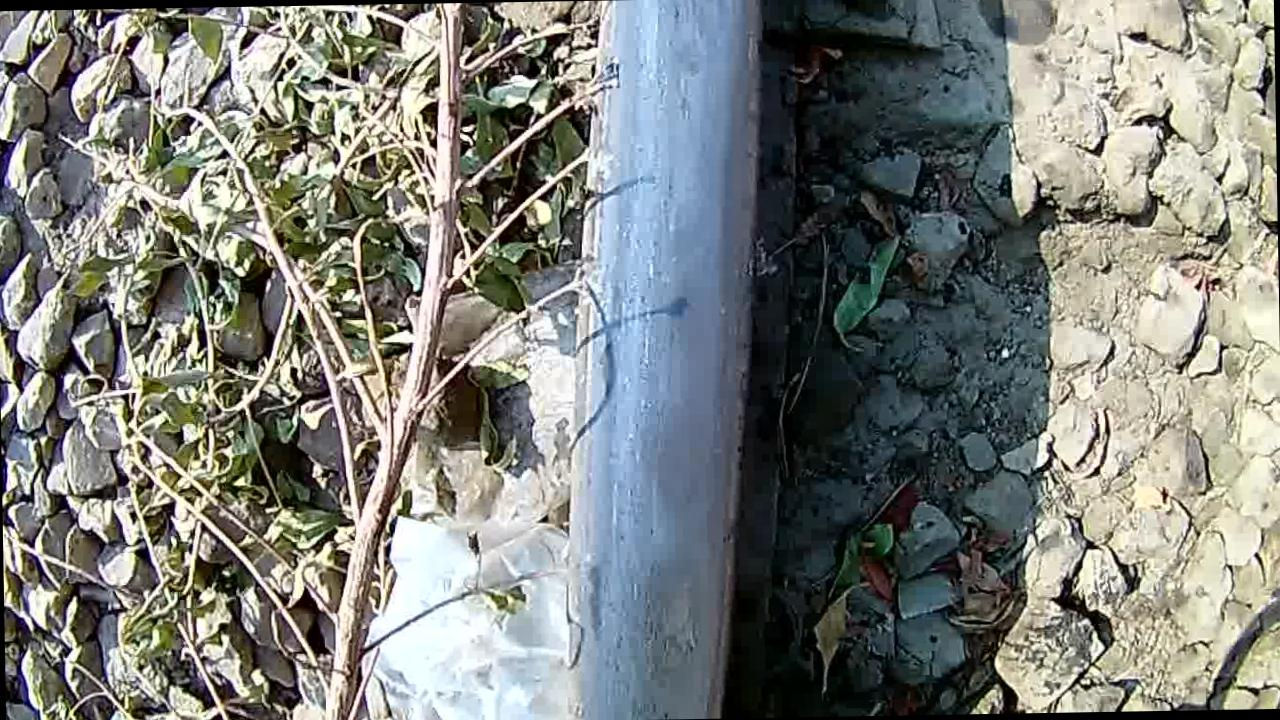bolt_missing: (592, 6, 770, 720)
